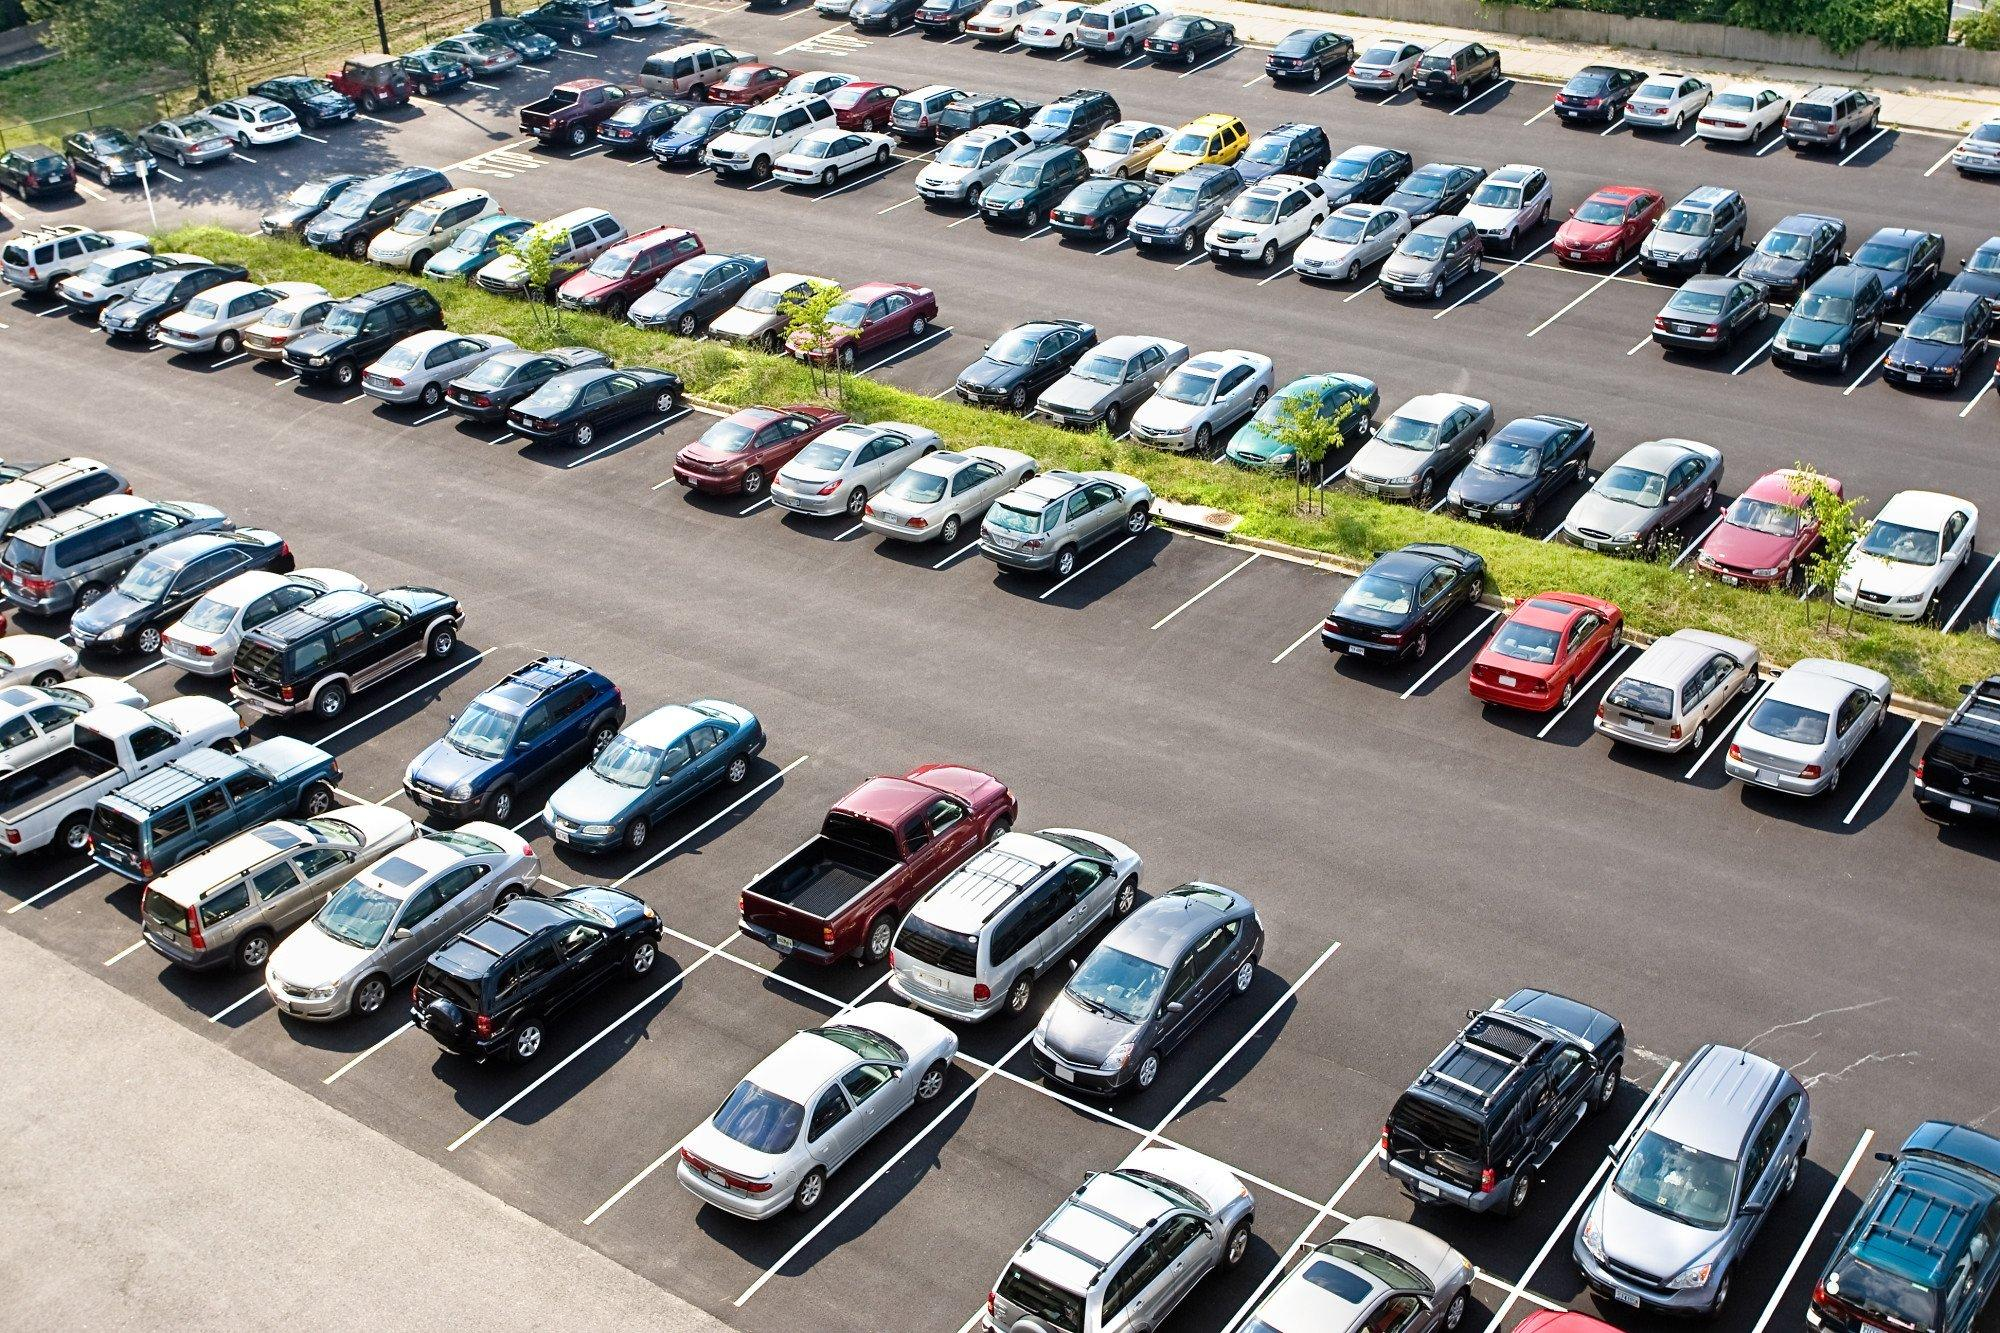empty: (1561, 1043, 1826, 1306), (659, 1012, 946, 1223), (1372, 991, 1603, 1218), (886, 817, 1121, 1035), (1026, 882, 1267, 1092), (419, 882, 656, 1071), (995, 1160, 1254, 1333), (739, 777, 987, 954), (1795, 1120, 1999, 1333), (283, 836, 504, 1021), (544, 702, 764, 860), (152, 806, 361, 971), (403, 672, 613, 815), (1172, 1221, 1447, 1330), (256, 586, 454, 720), (0, 692, 170, 848), (101, 748, 309, 875), (1723, 659, 1896, 805), (1451, 589, 1625, 719), (1838, 484, 1990, 622), (76, 536, 268, 644), (1600, 631, 1756, 763), (1310, 552, 1481, 671), (13, 497, 208, 595), (1557, 440, 1723, 555), (980, 464, 1142, 574), (1701, 469, 1847, 586), (165, 564, 332, 664), (1445, 417, 1587, 527), (879, 446, 1029, 549), (1240, 373, 1378, 484), (1350, 388, 1488, 498), (286, 287, 434, 388), (669, 405, 818, 501), (779, 423, 926, 519), (520, 363, 675, 452), (1135, 353, 1271, 451), (1908, 695, 2000, 833), (474, 210, 619, 295), (308, 171, 451, 254), (1042, 335, 1170, 425), (175, 280, 312, 364), (800, 283, 937, 364), (89, 254, 217, 339), (952, 323, 1077, 408), (451, 347, 581, 427), (1204, 184, 1320, 274), (1765, 287, 1880, 376), (1654, 277, 1774, 360), (1886, 301, 1993, 394), (372, 332, 497, 411), (1642, 192, 1759, 272), (575, 234, 693, 314), (642, 254, 761, 329), (381, 189, 492, 266), (1298, 210, 1407, 287), (1381, 235, 1494, 308), (0, 229, 117, 298), (1132, 174, 1230, 256), (1558, 186, 1659, 265), (1457, 168, 1564, 242), (3, 466, 110, 539), (516, 79, 630, 146), (1743, 219, 1851, 289), (721, 275, 830, 345), (981, 159, 1080, 231), (1054, 173, 1148, 245), (916, 138, 1008, 211), (779, 140, 897, 195), (1411, 48, 1506, 110), (1700, 80, 1790, 146), (882, 86, 989, 141), (653, 98, 741, 165), (1787, 89, 1881, 152), (58, 123, 146, 189), (0, 140, 85, 207), (1013, 95, 1111, 152), (607, 97, 697, 158), (137, 113, 229, 173), (1310, 144, 1407, 201), (207, 91, 303, 147), (1262, 31, 1353, 91), (1619, 76, 1706, 135), (1154, 16, 1243, 73), (1151, 122, 1245, 176), (1243, 126, 1335, 177), (1552, 73, 1633, 131), (468, 21, 559, 71), (1398, 162, 1481, 216), (1346, 40, 1426, 95), (1093, 118, 1178, 170), (269, 79, 354, 131), (642, 45, 739, 89), (348, 65, 428, 119), (1077, 9, 1155, 60), (821, 82, 901, 128), (709, 65, 794, 109), (1020, 9, 1083, 60), (1952, 123, 2000, 183), (846, 1, 931, 34), (967, 3, 1029, 45), (920, 1, 986, 40)
occupied: (1242, 1016, 1398, 1123), (568, 1034, 717, 1129), (889, 1168, 1026, 1265), (699, 808, 806, 872), (375, 687, 480, 745), (1227, 585, 1313, 634), (1115, 552, 1199, 600), (858, 156, 926, 211), (1576, 302, 1646, 342), (923, 336, 987, 379), (639, 423, 702, 466), (1490, 287, 1555, 321), (1496, 91, 1539, 119), (1893, 138, 1938, 164)
